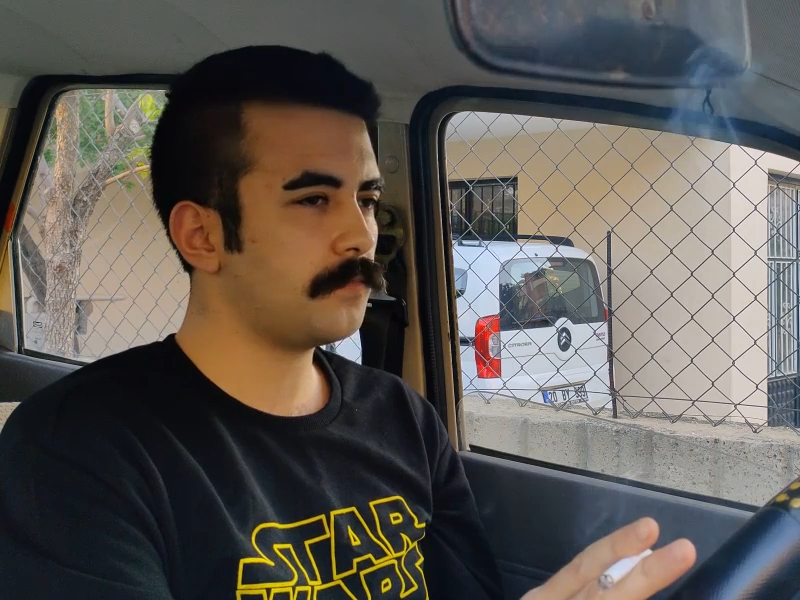sigara: (597, 547, 653, 591)
